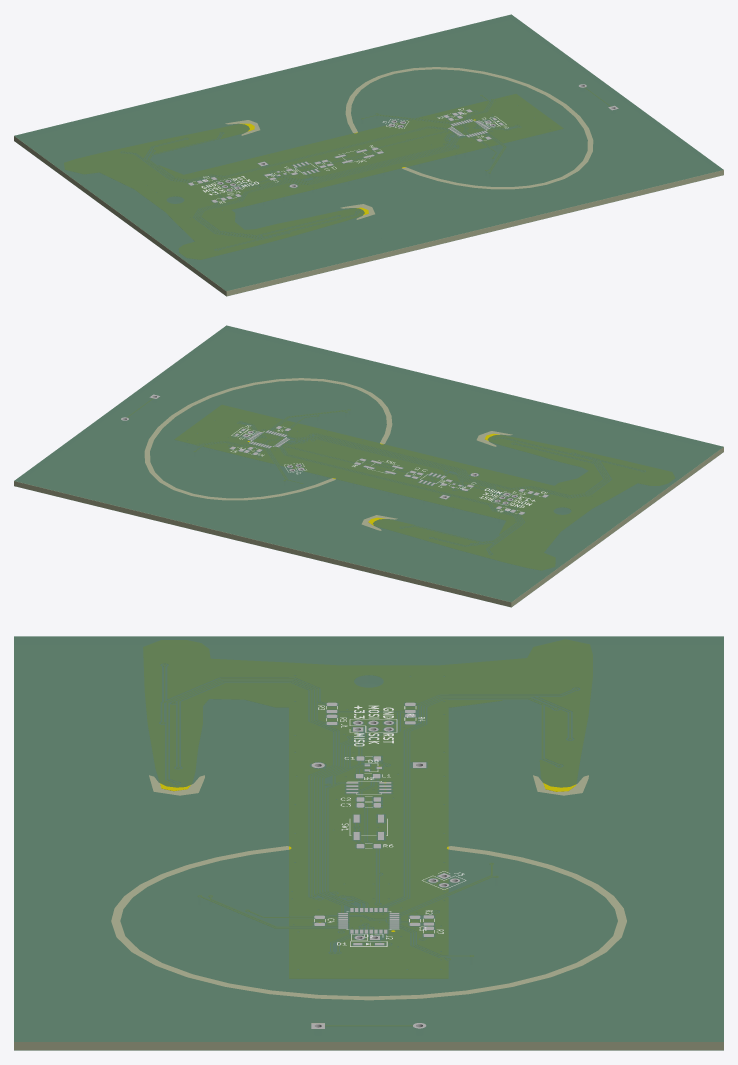
File: enterprise-badge-dc27.glb
The picture shows the model from 3 angles, top to bottom: view 1: azimuth 30°, elevation 25°; view 2: azimuth 150°, elevation 25°; view 3: azimuth 270°, elevation 25°; orthographic projection. The views are drawn at different scales.
Visible parts, largest first — view 1: =>[0:1:1:7], =>[0:1:1:9], =>[0:1:1:2], =>[0:1:1:5]; view 2: =>[0:1:1:7], =>[0:1:1:9], =>[0:1:1:2], =>[0:1:1:5]; view 3: =>[0:1:1:7], =>[0:1:1:9], =>[0:1:1:2], =>[0:1:1:5].
Part boxes in pixels (box(x1,y1,x2,y2)): =>[0:1:1:7]: box(14, 14, 723, 296); =>[0:1:1:9]: box(14, 15, 723, 296); =>[0:1:1:2]: box(64, 84, 618, 259); =>[0:1:1:5]: box(192, 108, 508, 203); =>[0:1:1:7]: box(14, 325, 723, 607); =>[0:1:1:9]: box(14, 326, 723, 607); =>[0:1:1:2]: box(121, 394, 674, 569); =>[0:1:1:5]: box(230, 425, 547, 513); =>[0:1:1:7]: box(14, 636, 723, 1050); =>[0:1:1:9]: box(14, 637, 723, 1050); =>[0:1:1:2]: box(143, 640, 592, 1028); =>[0:1:1:5]: box(314, 705, 466, 946).
Size of the model in its own units: 0.1587 by 0.00166 by 0.1174.
4 materials, 4 textured.
